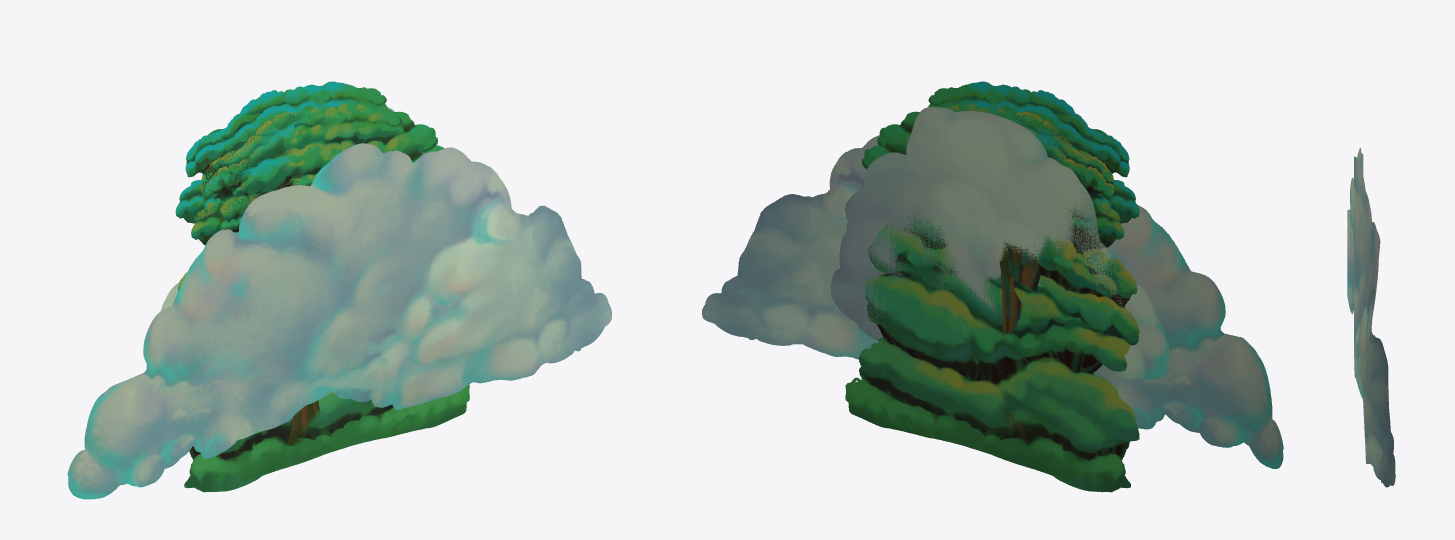
The model's file is Clouds.fbx.
3 views of the same model, side by side, from view 1: azimuth 30°, elevation 25°; view 2: azimuth 150°, elevation 25°; view 3: azimuth 270°, elevation 25° (orthographic). The views are drawn at different scales.
Visible parts, largest first — view 1: Clouds 1, Plane001, Plane002; view 2: Plane001, Clouds 1, Clouds 2, Plane002; view 3: Clouds 1.
Part boxes in pixels (x1,y1,x2,y2): Clouds 1: [67, 143, 611, 499]; Plane001: [178, 102, 469, 492]; Plane002: [175, 81, 437, 445]; Plane001: [845, 102, 1139, 492]; Clouds 1: [702, 135, 1283, 468]; Clouds 2: [831, 106, 1169, 381]; Plane002: [877, 81, 1139, 444]; Clouds 1: [1347, 147, 1395, 487].
Size of the model in its own units: 740 by 472 by 115.
